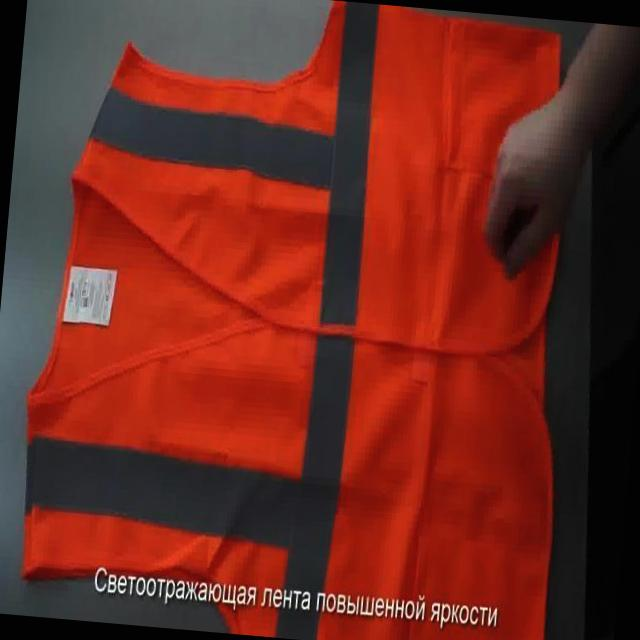vest: (5, 0, 600, 640)
